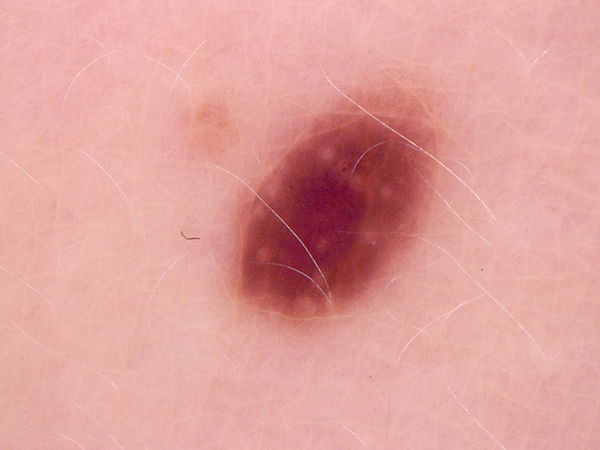Detected Lesion: (225, 73, 438, 327)
